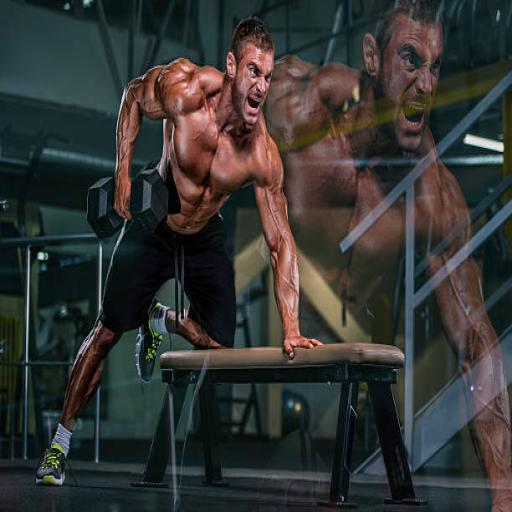Person: (41, 91, 342, 411)
boots: (46, 346, 83, 409), (141, 280, 174, 346)
no_gloves: (271, 282, 323, 326), (110, 191, 146, 233)
no_goggle: (237, 124, 275, 150)
no_helmet: (232, 100, 278, 151)
none: (118, 127, 292, 296)
